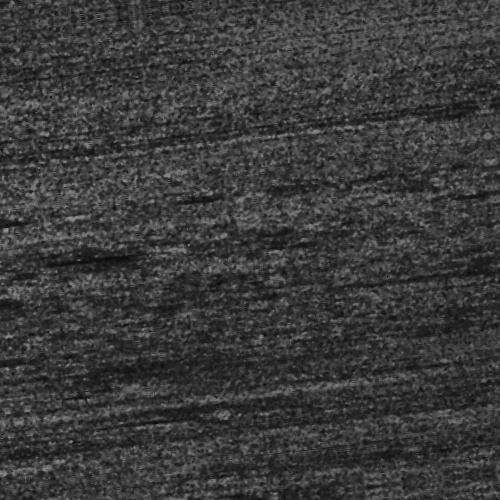object: (121, 232, 194, 245), (34, 190, 87, 195), (223, 191, 276, 194), (484, 213, 500, 220), (463, 134, 500, 137)
shadow: (52, 232, 157, 245), (14, 190, 60, 195), (422, 134, 483, 137), (482, 213, 500, 220), (210, 191, 249, 194)
